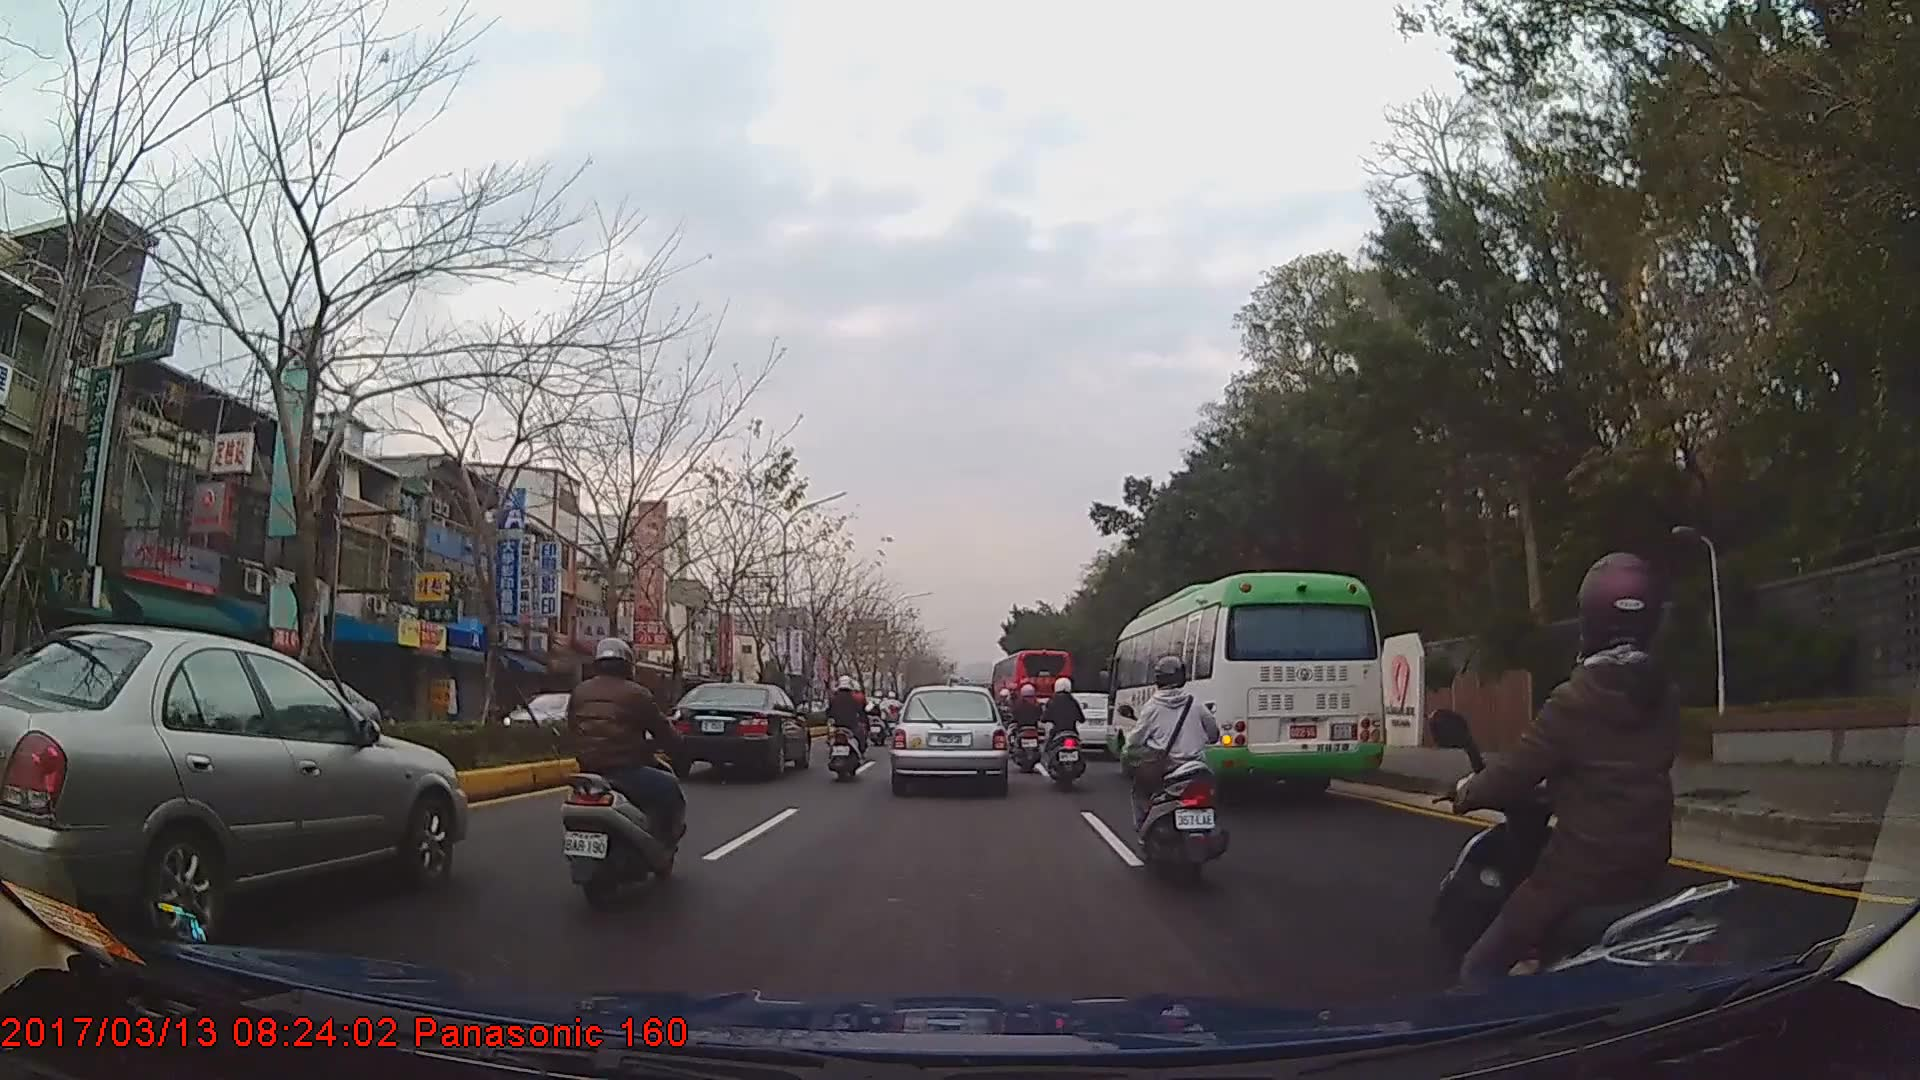rider: (1428, 549, 1754, 1056), (559, 632, 685, 910), (1129, 659, 1229, 889), (1044, 677, 1090, 787), (827, 676, 871, 784), (1013, 679, 1049, 773), (867, 691, 894, 746), (884, 690, 904, 727)
vehicle: (0, 626, 471, 933), (1105, 570, 1384, 798), (659, 680, 811, 776), (889, 685, 1010, 795), (994, 643, 1075, 737), (504, 689, 590, 742)
